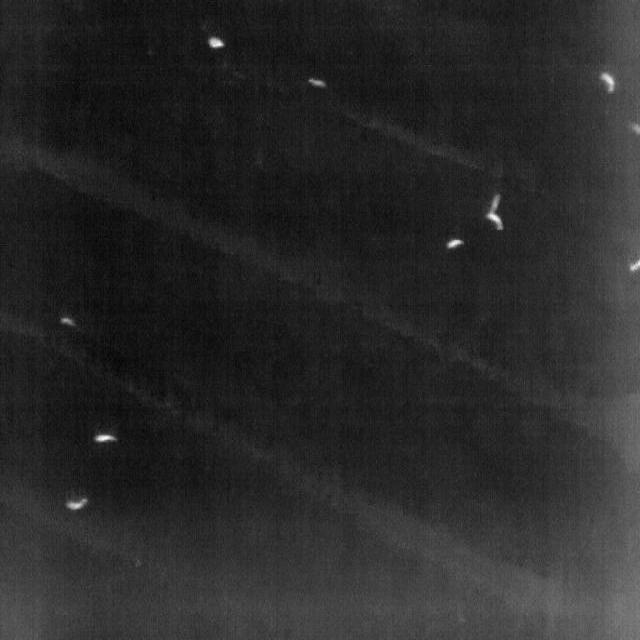deer: (598, 72, 616, 94), (485, 212, 505, 230), (65, 498, 89, 511), (489, 192, 502, 214), (92, 433, 118, 443), (207, 36, 226, 49), (446, 238, 464, 250), (59, 317, 78, 328), (308, 77, 327, 88), (629, 259, 640, 271), (632, 123, 640, 135)
